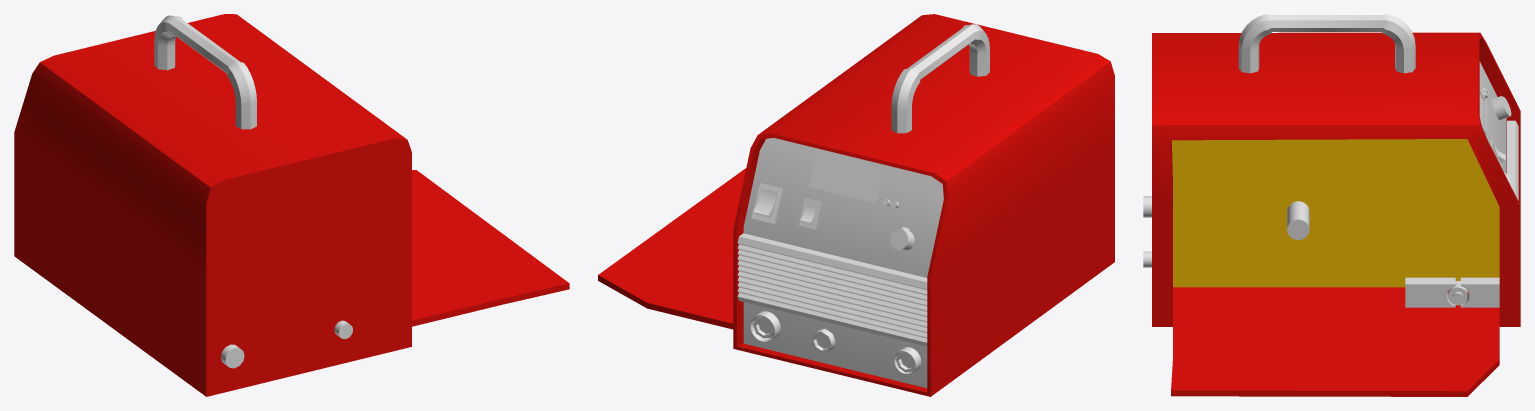
File: MIG.fbx
3 views of the same model, side by side, from view 1: azimuth 30°, elevation 25°; view 2: azimuth 150°, elevation 25°; view 3: azimuth 270°, elevation 25° (orthographic). The views are drawn at different scales.
Parts seen in each view (by area): view 1: MIG _01, MIG_Door, MIG _02; view 2: MIG _01, MIG _03, MIG _04, MIG_Door, MIG _02, MIG, MIG_Display, MIGSwitch_03; view 3: MIG _01, MIG, MIG_Door, MIG _02, Rectangle001, Rectangle002, MIG _03, MIG _04, Cylinder052, Cylinder049, MIGSwitch_03.
Part boxes in pixels (x1,y1,x2,y2): MIG _01: [14, 14, 411, 396]; MIG_Door: [412, 170, 569, 326]; MIG _02: [154, 15, 256, 129]; MIG _01: [733, 14, 1114, 396]; MIG _03: [743, 138, 943, 388]; MIG _04: [737, 233, 927, 346]; MIG_Door: [598, 168, 746, 329]; MIG _02: [891, 24, 989, 133]; MIG: [749, 183, 921, 375]; MIG_Display: [809, 152, 883, 202]; MIGSwitch_03: [890, 227, 914, 250]; MIG _01: [1152, 32, 1520, 326]; MIG: [1171, 86, 1519, 287]; MIG_Door: [1171, 309, 1499, 396]; MIG _02: [1238, 14, 1415, 73]; Rectangle001: [1405, 277, 1455, 307]; Rectangle002: [1460, 277, 1499, 307]; MIG _03: [1479, 61, 1506, 173]; MIG _04: [1507, 120, 1518, 200]; Cylinder052: [1287, 201, 1309, 239]; Cylinder049: [1448, 281, 1467, 305]; MIGSwitch_03: [1491, 96, 1511, 120].
Size of the model in its own units: 64.95 by 44.67 by 59.07.
